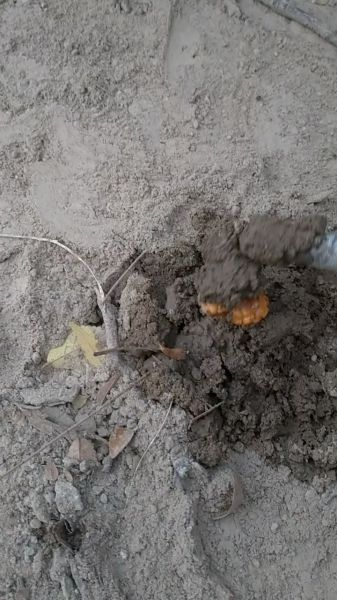eggs: (193, 281, 273, 332)
